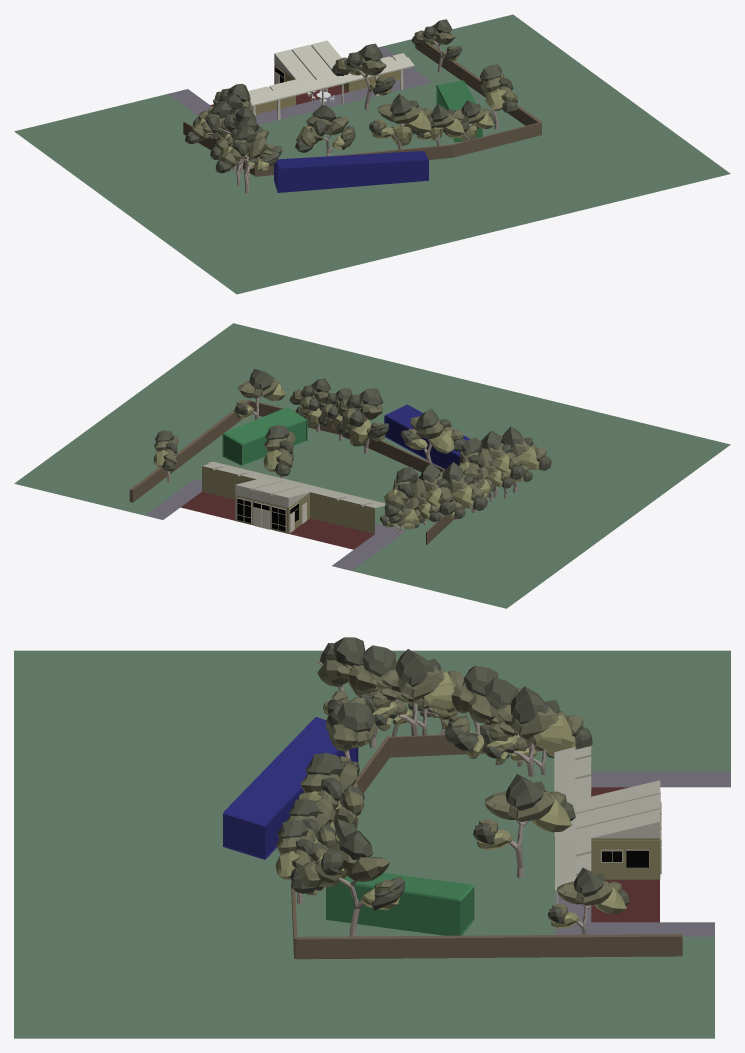
The model's file is WE01_Kinship_OutdoorScene.fbx.
3 views of the same model, one above another, from view 1: azimuth 30°, elevation 25°; view 2: azimuth 150°, elevation 25°; view 3: azimuth 270°, elevation 25° (orthographic). The views are drawn at different scales.
Parts seen in each view (by area): view 1: Ground, BuildingEXT, Garage1, Fence1, Garage; view 2: Ground, BuildingEXT, Fence1, Garage, Garage1; view 3: Ground, Fence1, BuildingEXT, Garage1, Garage, TreeBrush93, TreeBrush219, TreeBrush168, TreeBrush127, TreeBrush180, TreeBrush6, TreeBrush147 (+11 smaller).
Boxes of the visible parts, x1,y1,x2,y2 form: Ground: (14,14,730,294); BuildingEXT: (248,40,414,119); Garage1: (274,151,428,192); Fence1: (183,43,541,176); Garage: (436,80,482,142); Ground: (14,323,730,608); BuildingEXT: (202,461,385,533); Fence1: (129,400,465,544); Garage: (222,407,307,465); Garage1: (384,404,469,469); Ground: (14,650,730,1038); Fence1: (291,733,682,959); BuildingEXT: (554,746,661,904); Garage1: (223,717,358,859); Garage: (326,872,474,935); TreeBrush93: (533,715,576,752); TreeBrush219: (395,649,434,687); TreeBrush168: (505,774,543,810); TreeBrush127: (511,686,548,724); TreeBrush180: (336,702,375,732); TreeBrush6: (363,645,396,676); TreeBrush147: (346,856,389,881).
Size of the model in its own units: 40.21 by 5.79 by 31.4.
